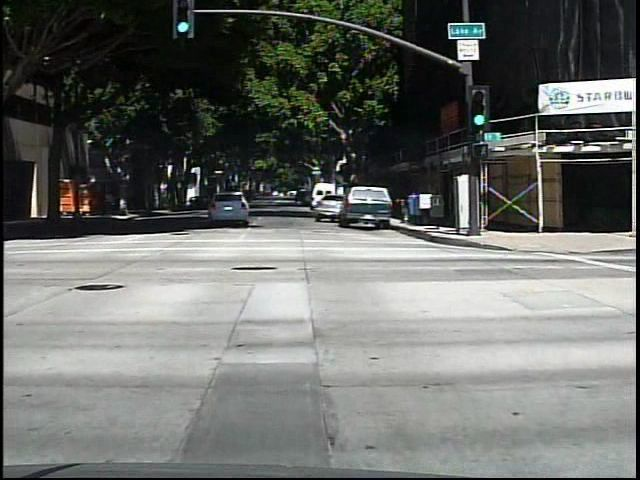person: (98, 185, 115, 219)
